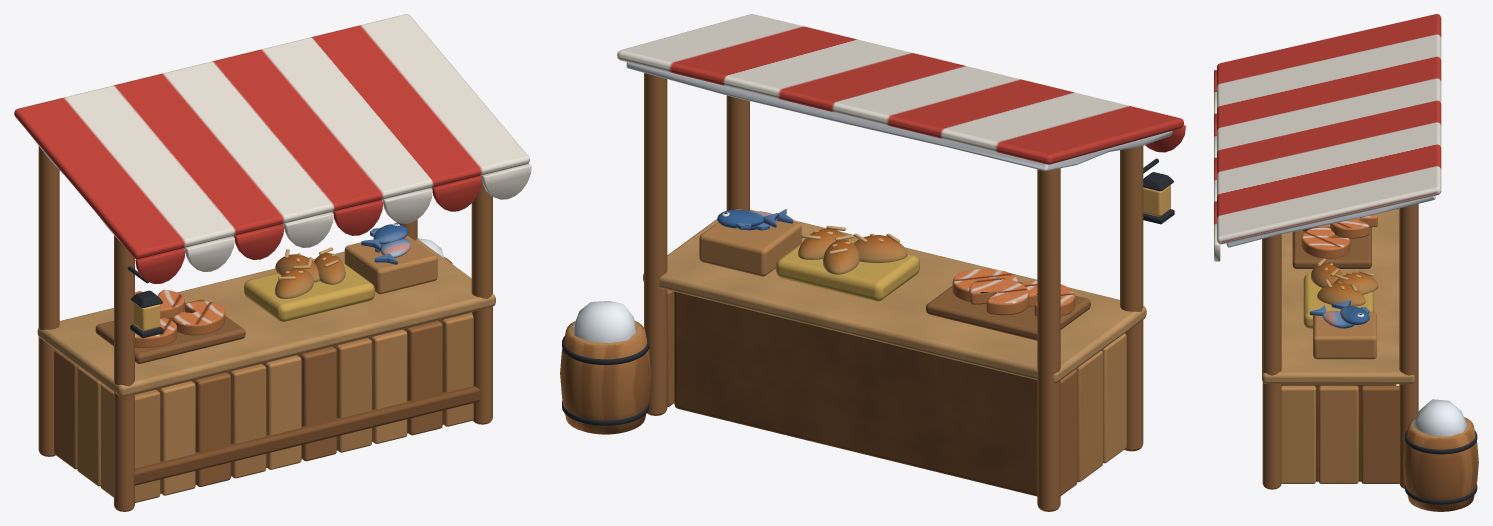
File: market_counter.glb
The picture shows the model from 3 angles, left to right: view 1: azimuth 30°, elevation 25°; view 2: azimuth 150°, elevation 25°; view 3: azimuth 270°, elevation 25°; orthographic projection. The views are drawn at different scales.
Visible parts, largest first — view 1: awning; view 2: awning; view 3: awning.
Boxes of the visible parts, <box> form: awning: <box>14,14,531,511</box>; awning: <box>560,14,1185,511</box>; awning: <box>1214,14,1478,511</box>.
Bounding box in the file's own units: 3.62 × 2.65 × 2.07.
Materials: 2 (1 with a texture image).
